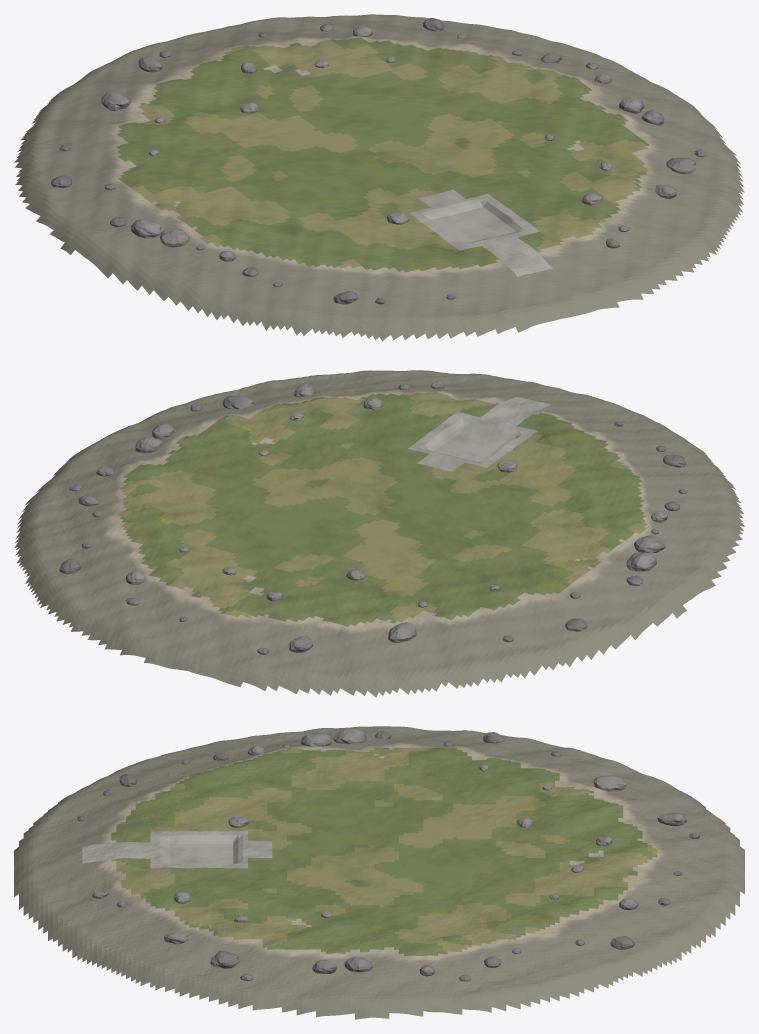
File: ile.glb
3 renders of one model, top to bottom at view 1: azimuth 30°, elevation 25°; view 2: azimuth 150°, elevation 25°; view 3: azimuth 270°, elevation 25°, orthographic. The views are drawn at different scales.
Visible parts, largest first — view 1: ile; view 2: ile; view 3: ile.
Part boxes in pixels (<box>): ile: <box>14,14,744,341</box>; ile: <box>14,370,744,697</box>; ile: <box>14,726,744,1019</box>.
Size of the model in its own units: 72.8 by 4.1 by 78.
